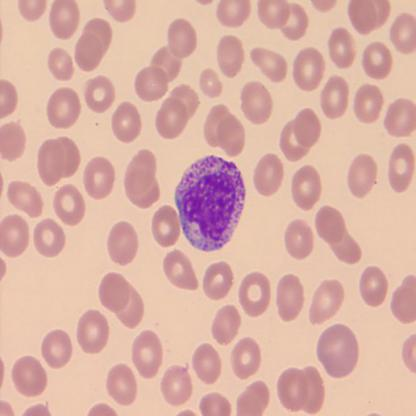Metamyelocyte: (173, 151, 247, 253)
